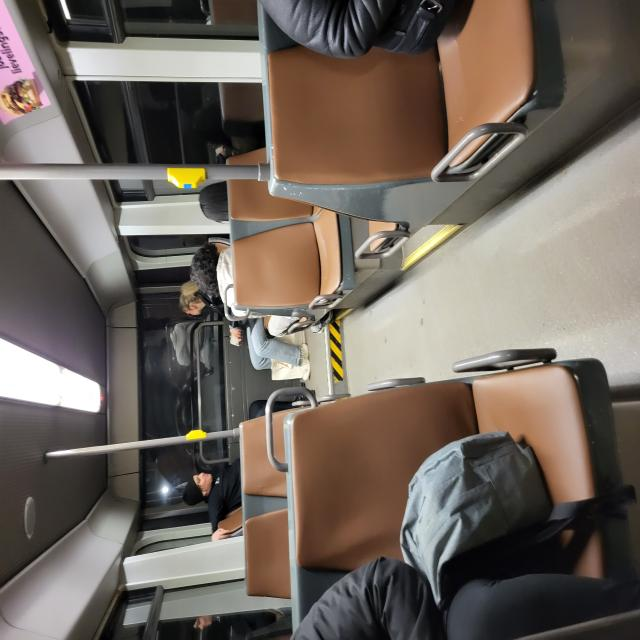asiento-libre: (27, 397, 221, 640), (345, 361, 480, 640), (240, 300, 325, 474), (103, 318, 182, 432), (30, 324, 100, 387), (308, 299, 370, 367)
